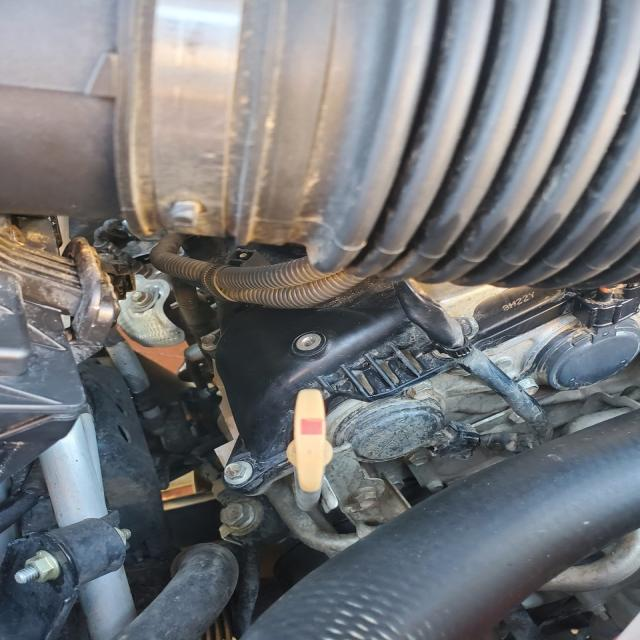Regular bolt: (23, 553, 56, 584), (224, 462, 250, 485), (354, 489, 380, 508), (518, 378, 542, 397), (408, 451, 431, 467), (133, 291, 150, 305)
